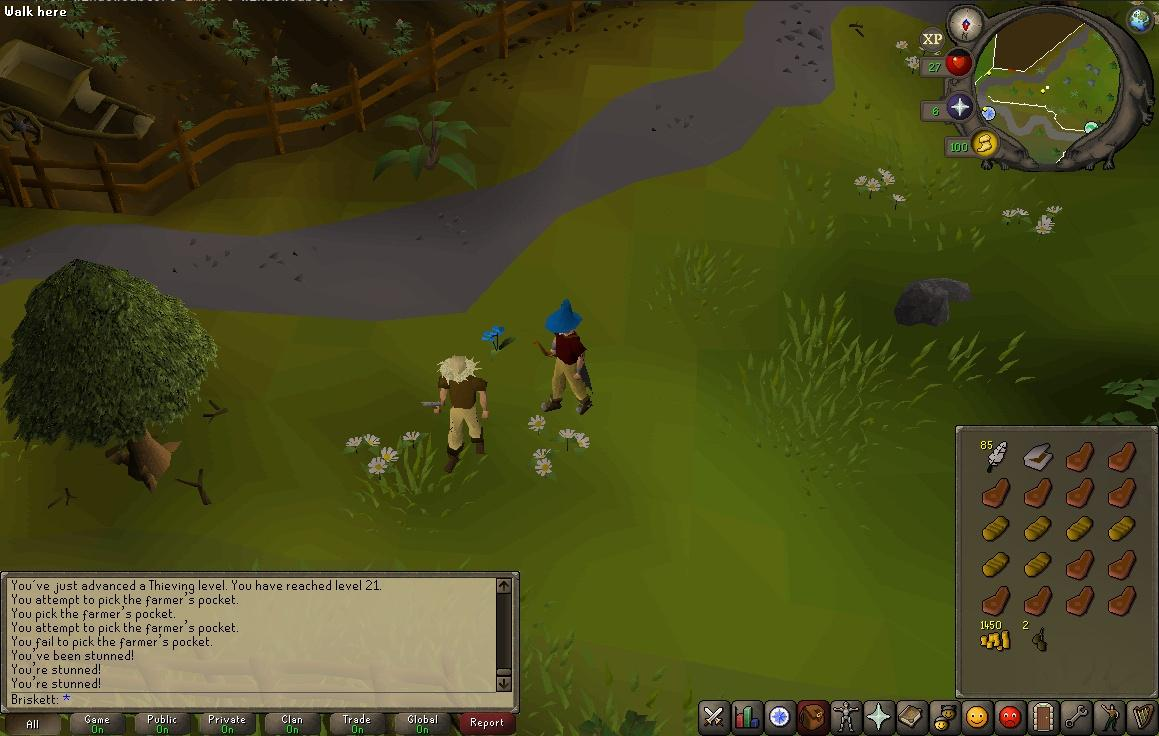Farmer: (433, 354, 490, 475)
